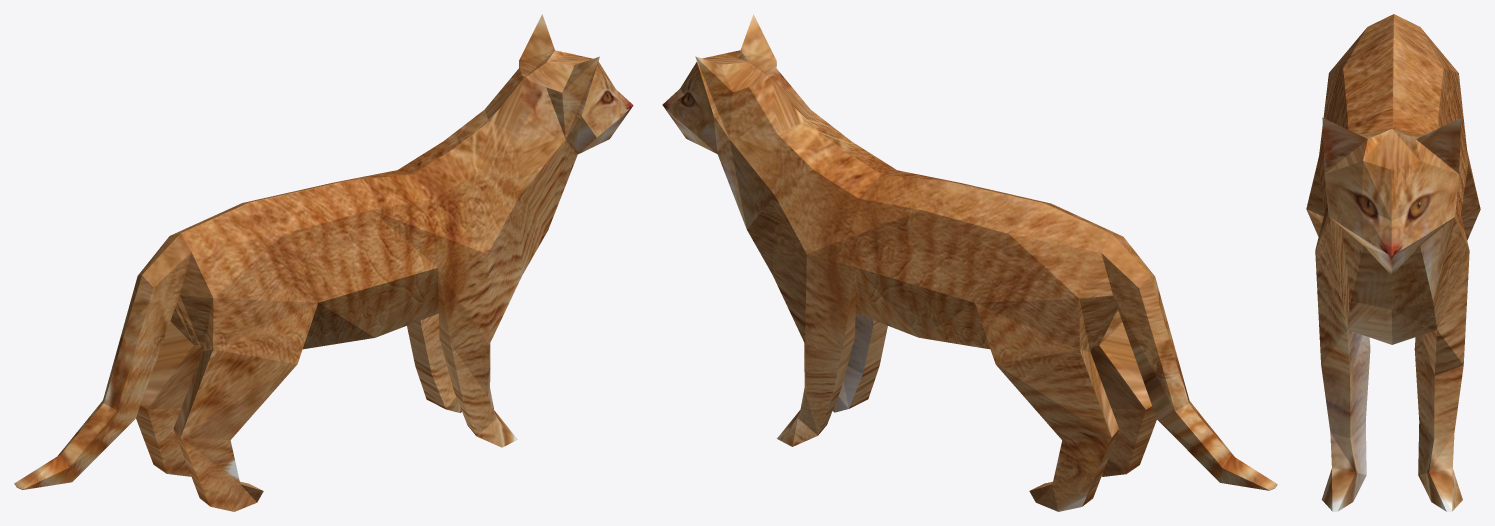
File: cat_ginger.glb
The picture shows the model from 3 angles, left to right: view 1: azimuth 30°, elevation 25°; view 2: azimuth 150°, elevation 25°; view 3: azimuth 270°, elevation 25°; orthographic projection. The views are drawn at different scales.
Parts seen in each view (by area): view 1: ORIGAMI_Chat; view 2: ORIGAMI_Chat; view 3: ORIGAMI_Chat.
Part boxes in pixels (x1,y1,x2,y2): ORIGAMI_Chat: [14, 14, 633, 511]; ORIGAMI_Chat: [662, 14, 1277, 511]; ORIGAMI_Chat: [1306, 14, 1480, 511].
Size of the model in its own units: 8.57 by 4.89 by 1.76.
Materials: 1 (1 with a texture image).
